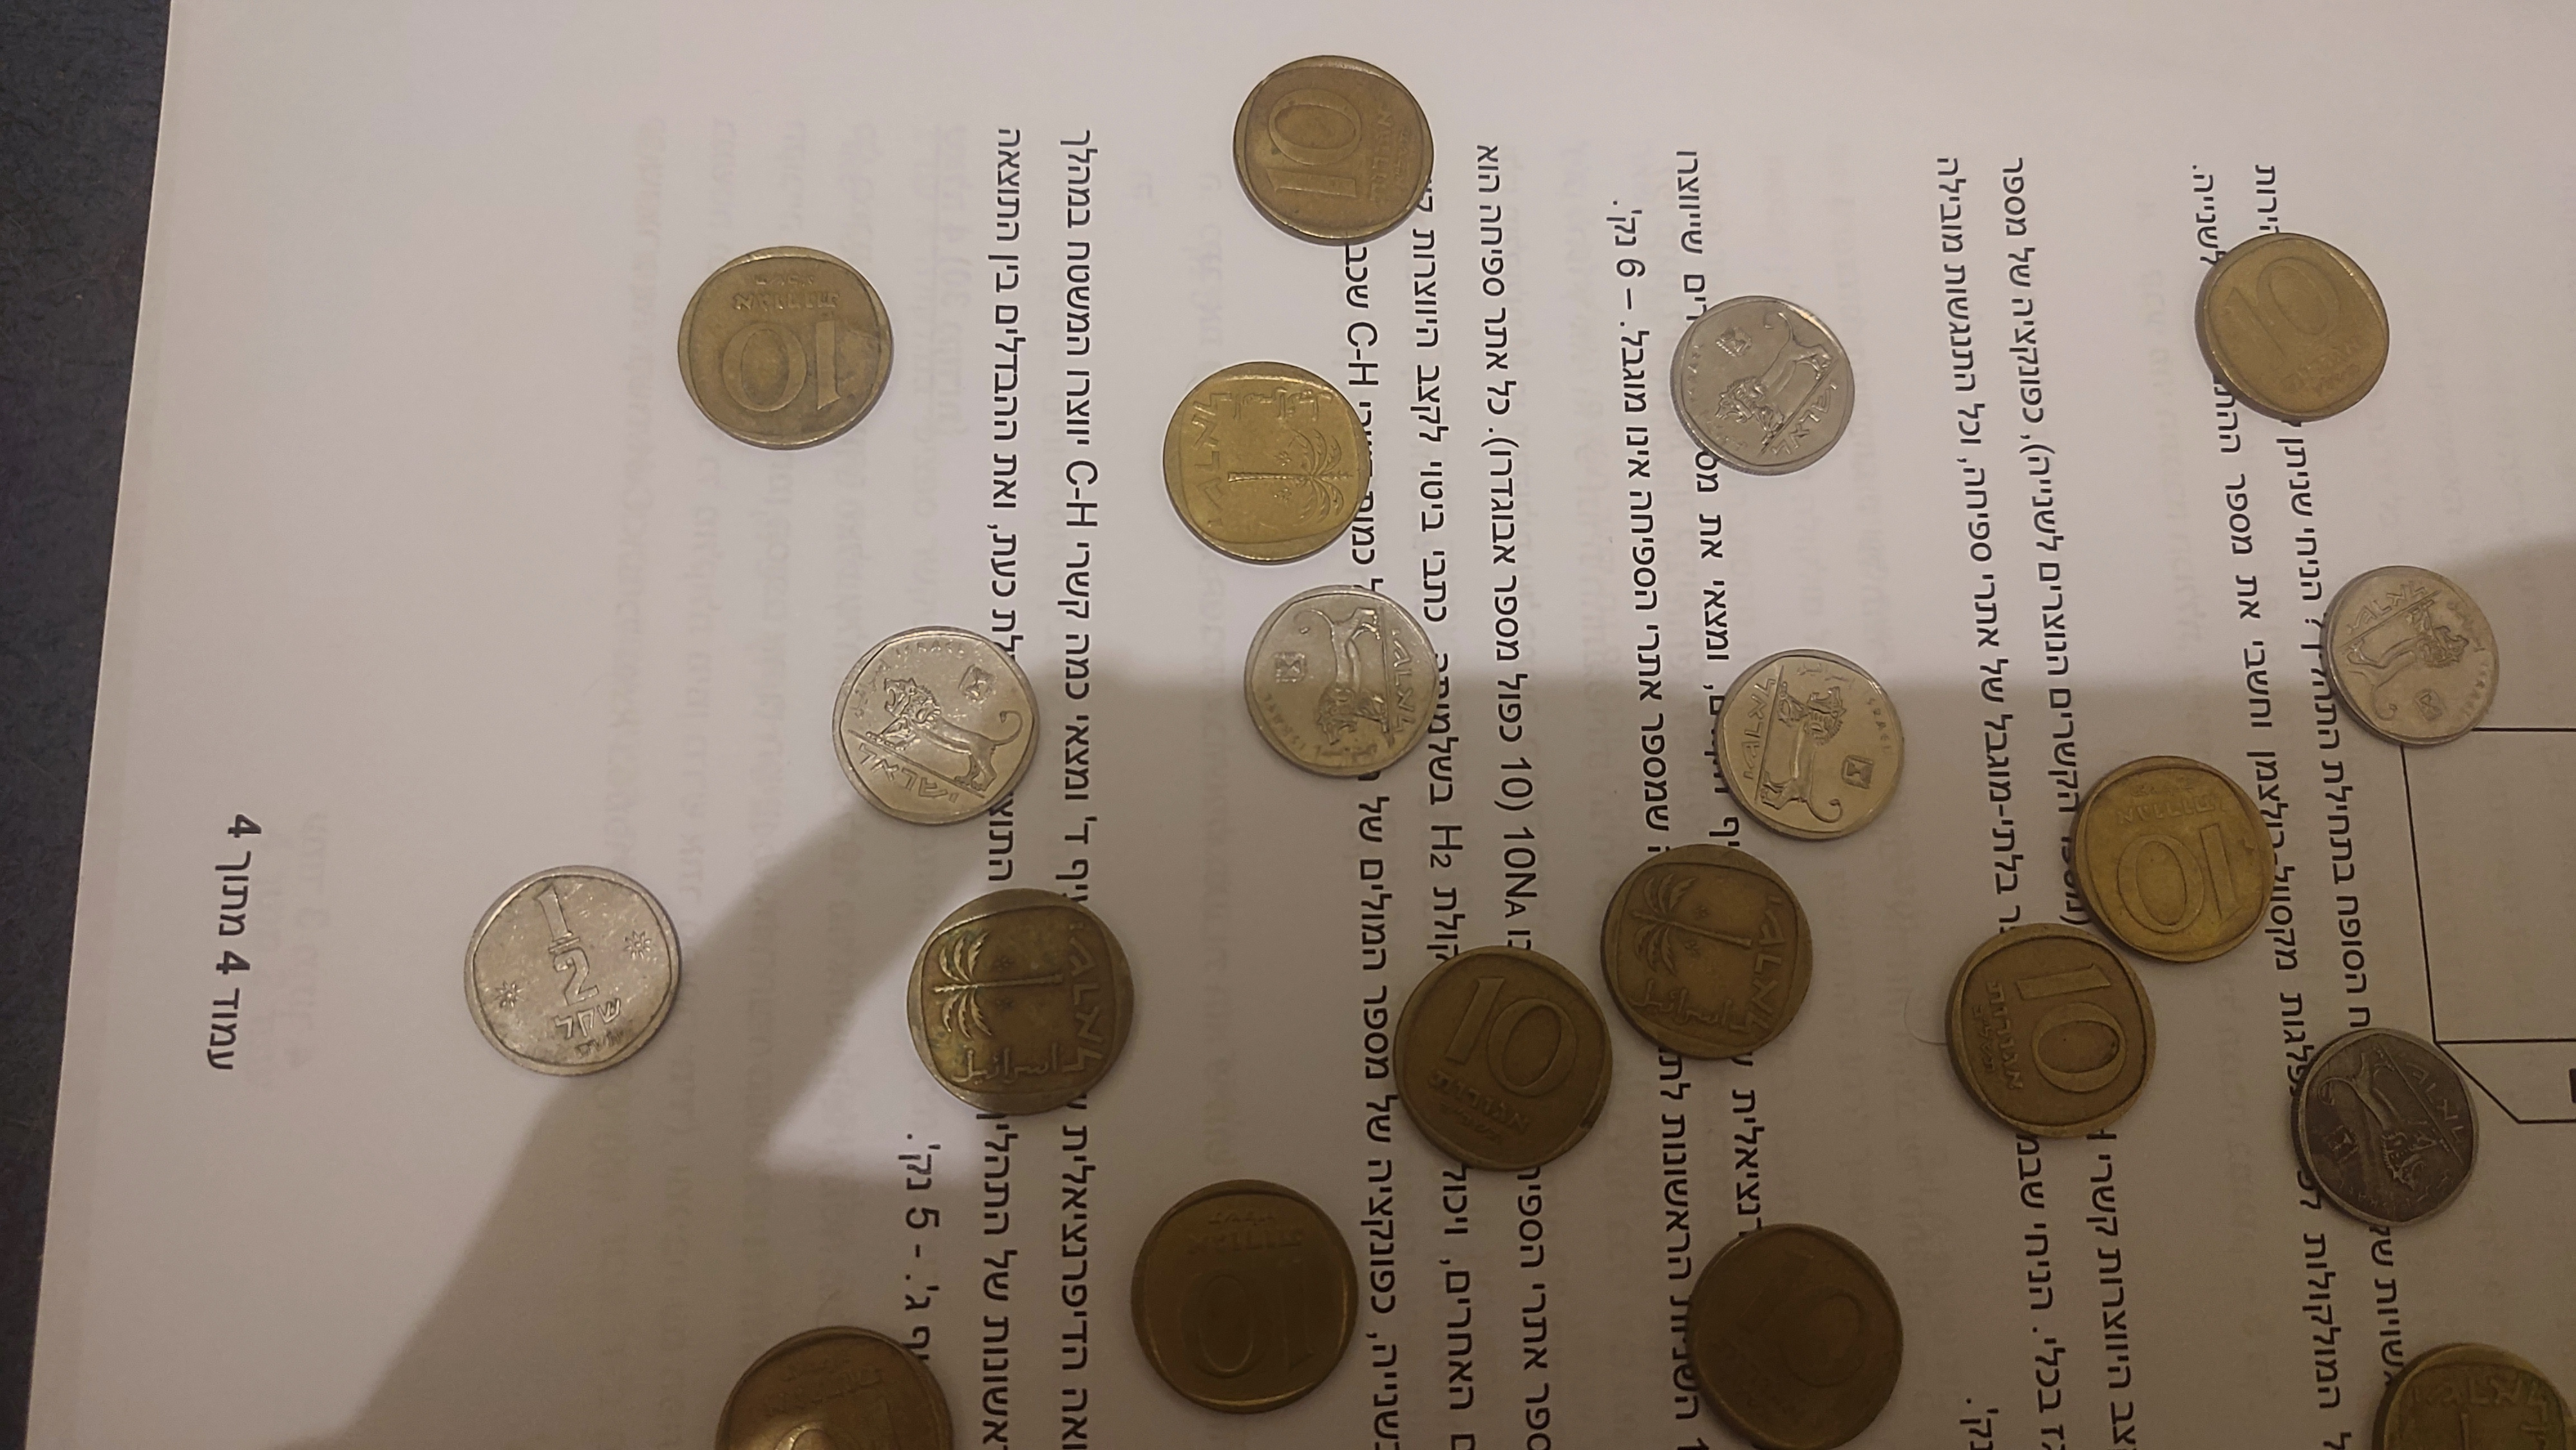1/2 old sheqel: (460, 863, 688, 1084), (828, 622, 1044, 833), (2284, 1020, 2484, 1232), (1240, 582, 1442, 782), (1709, 647, 1909, 842), (1667, 294, 1859, 479), (2318, 562, 2505, 752)
10 old agora brown: (1125, 1174, 1361, 1422), (901, 884, 1139, 1123), (1385, 943, 1617, 1179), (1681, 1218, 1909, 1450), (1594, 842, 1821, 1072), (671, 237, 902, 456), (1155, 355, 1376, 575), (1943, 921, 2160, 1144), (2066, 752, 2282, 971), (1230, 50, 1437, 249), (2190, 228, 2392, 426), (706, 1319, 964, 1450)
